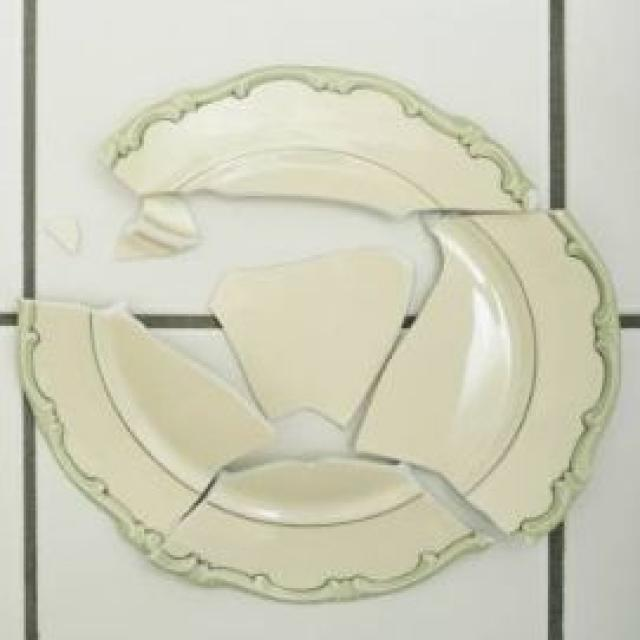electronic: (18, 66, 624, 604)
